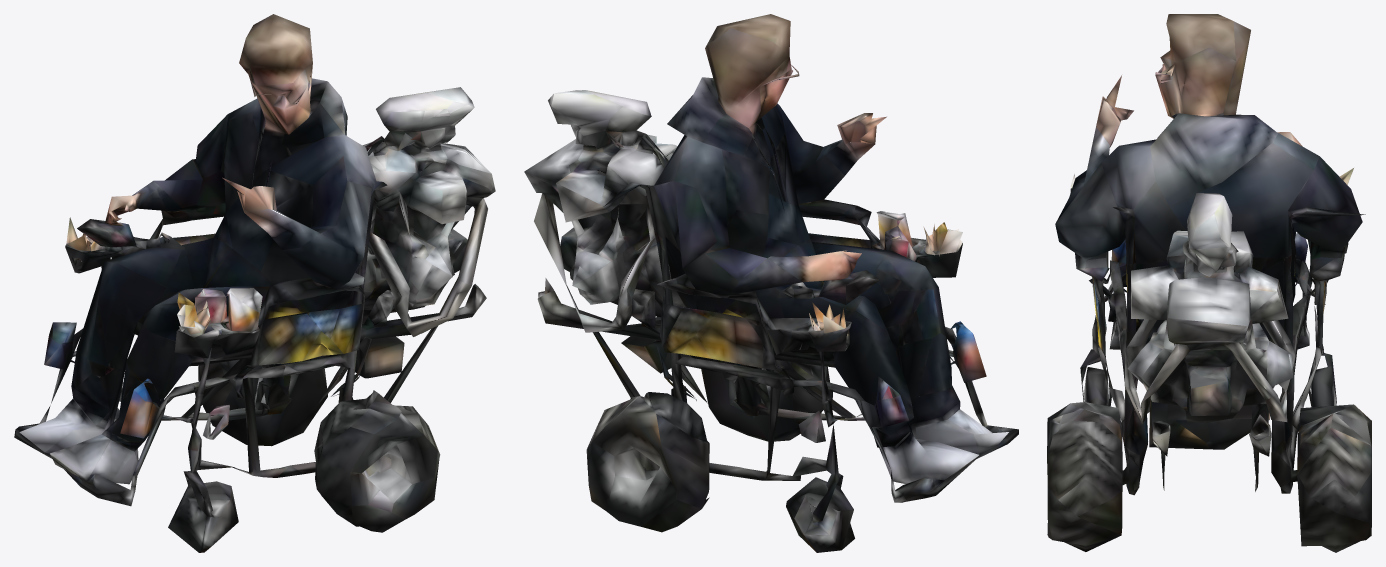
Rendered from orangie-far.glb.
3 renders of one model, left to right at view 1: azimuth 30°, elevation 25°; view 2: azimuth 150°, elevation 25°; view 3: azimuth 270°, elevation 25°, orthographic. The views are drawn at different scales.
Parts seen in each view (by area): view 1: tripo_node_02c21821-12f1-4667-856e-fb8ec506e009; view 2: tripo_node_02c21821-12f1-4667-856e-fb8ec506e009; view 3: tripo_node_02c21821-12f1-4667-856e-fb8ec506e009.
Part boxes in pixels (x1=…): tripo_node_02c21821-12f1-4667-856e-fb8ec506e009: x1=14, y1=14, x2=495, y2=552; tripo_node_02c21821-12f1-4667-856e-fb8ec506e009: x1=524, y1=14, x2=1018, y2=552; tripo_node_02c21821-12f1-4667-856e-fb8ec506e009: x1=1047, y1=14, x2=1371, y2=552.
Bounding box in the file's own units: 0.9678 × 0.9647 × 0.5619.
Materials: 1 (1 with a texture image).
